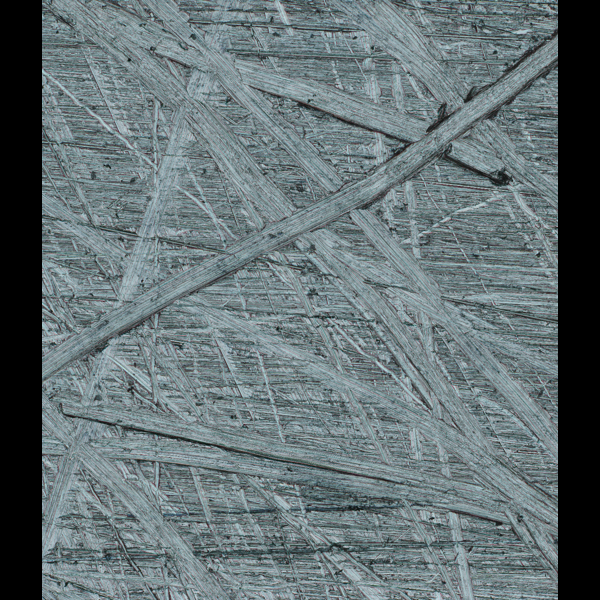d: (42, 4, 555, 594)
